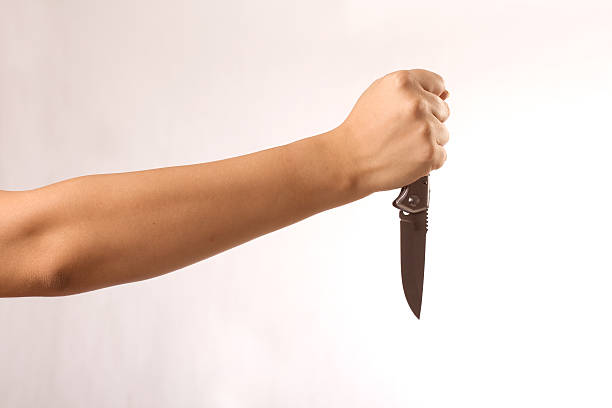knife: (391, 173, 430, 321)
